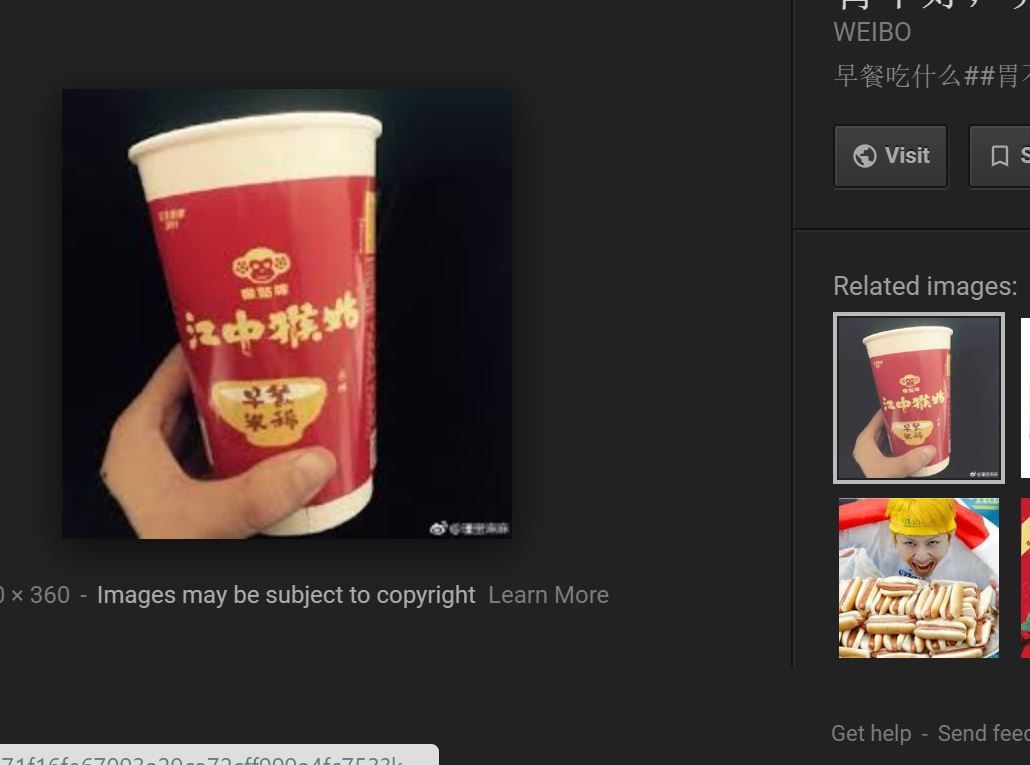cup: (128, 107, 388, 534), (861, 322, 954, 476)
